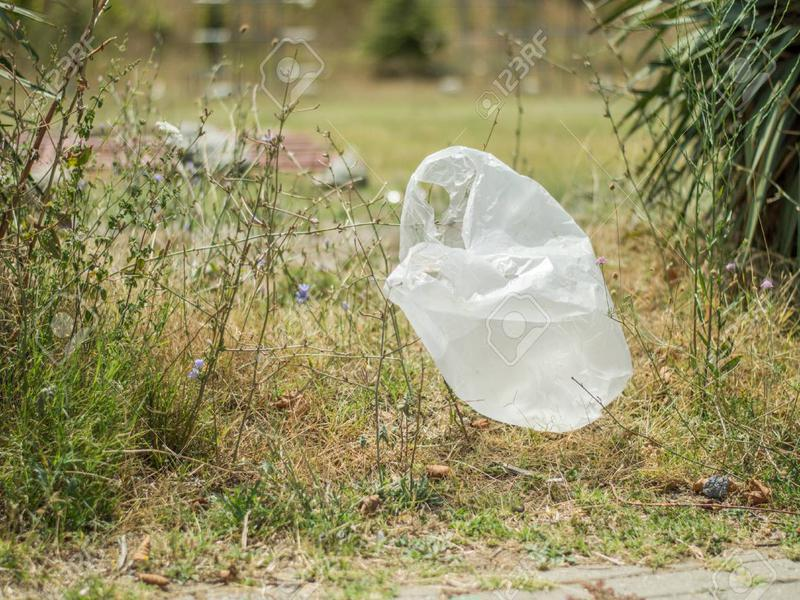plastic: (380, 142, 632, 435)
